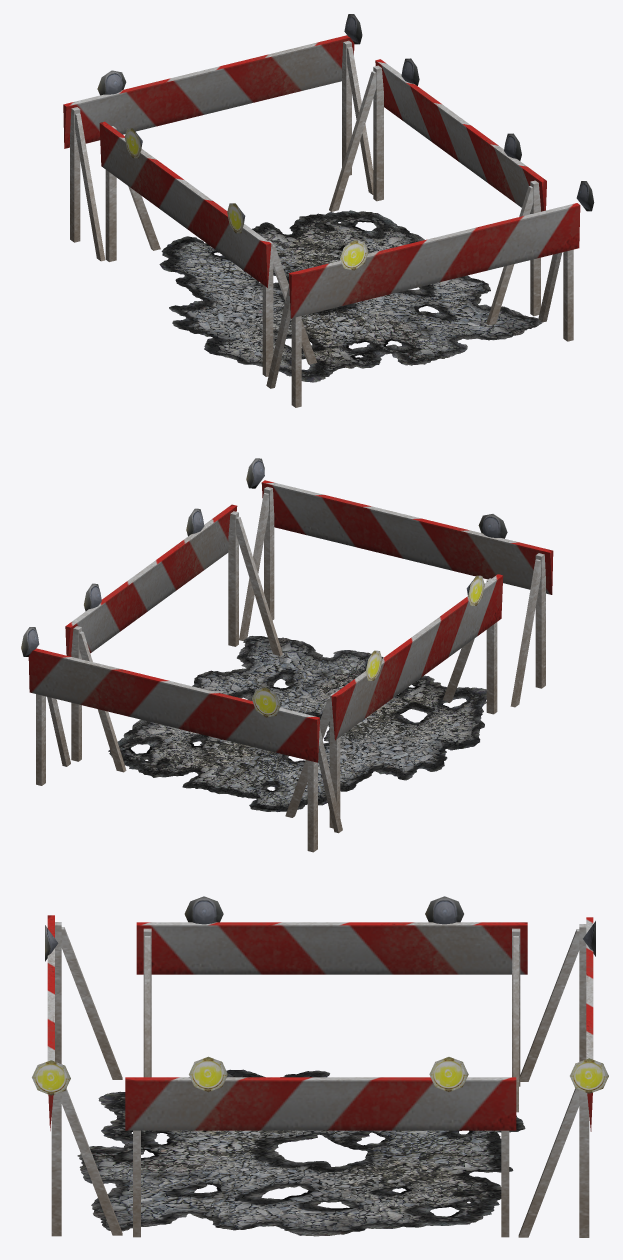
Rendered from obs_barrier.fbx.
The picture shows the model from 3 angles, top to bottom: view 1: azimuth 30°, elevation 25°; view 2: azimuth 150°, elevation 25°; view 3: azimuth 270°, elevation 25°; orthographic projection. The views are drawn at different scales.
Parts seen in each view (by area): view 1: obst_barrier; view 2: obst_barrier; view 3: obst_barrier.
Part boxes in pixels (<box>): obst_barrier: <box>63,14,594,407</box>; obst_barrier: <box>21,458,553,852</box>; obst_barrier: <box>32,896,608,1237</box>.
Bounding box in the file's own units: 169 × 73.2 × 215.
